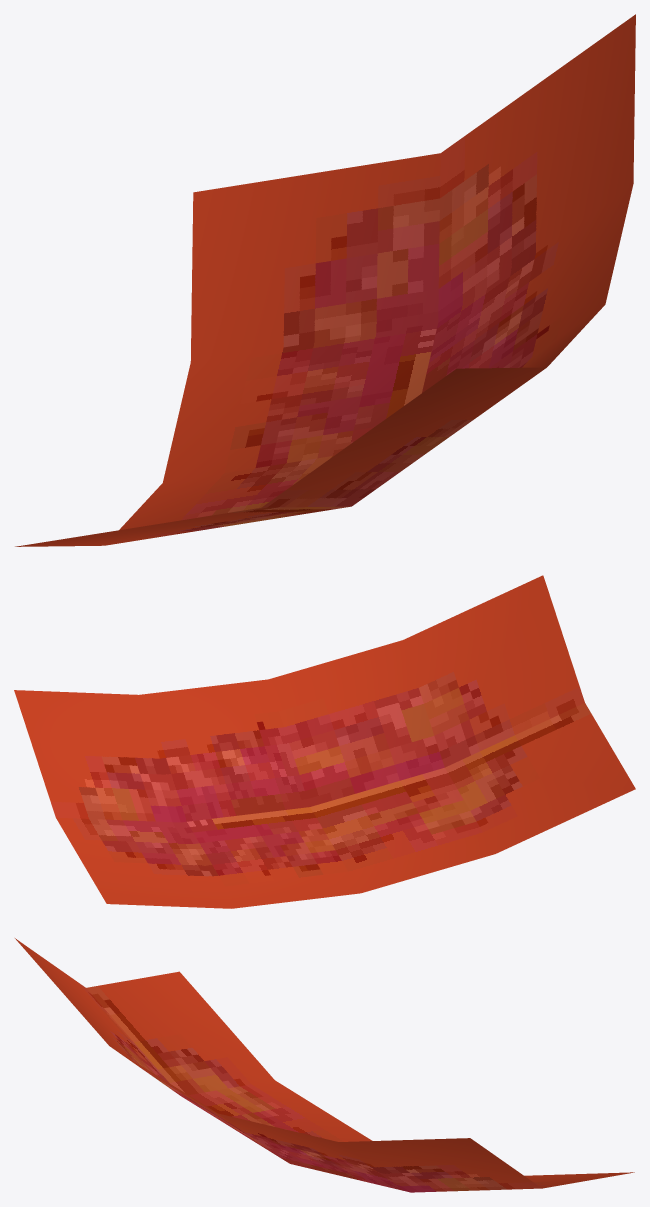
The model's file is cap_feather_red.dae.
3 renders of one model, top to bottom at view 1: azimuth 30°, elevation 25°; view 2: azimuth 150°, elevation 25°; view 3: azimuth 270°, elevation 25°, orthographic. The views are drawn at different scales.
Visible parts, largest first — view 1: cap_feather_red; view 2: cap_feather_red; view 3: cap_feather_red.
Part boxes in pixels (x1,y1,x2,y2): cap_feather_red: (15, 14, 635, 546); cap_feather_red: (14, 575, 635, 908); cap_feather_red: (15, 938, 634, 1192).
Size of the model in its own units: 12.55 by 4.77 by 13.08.
1 material, 1 textured.
